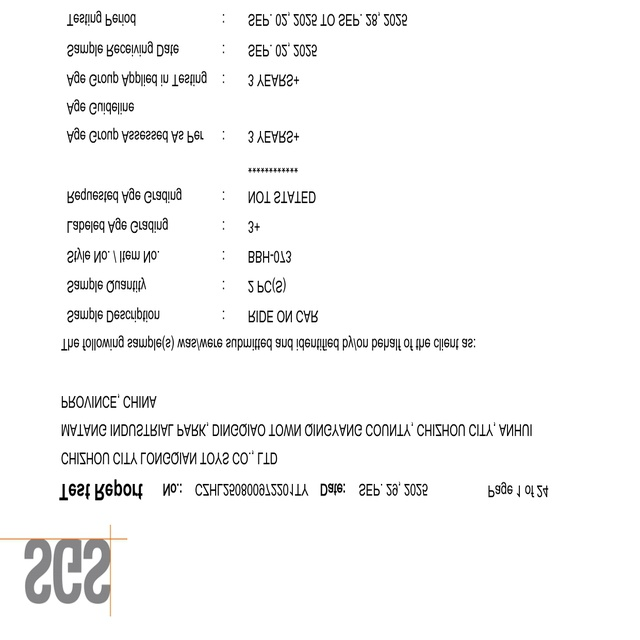sgs: (24, 537, 111, 604)
